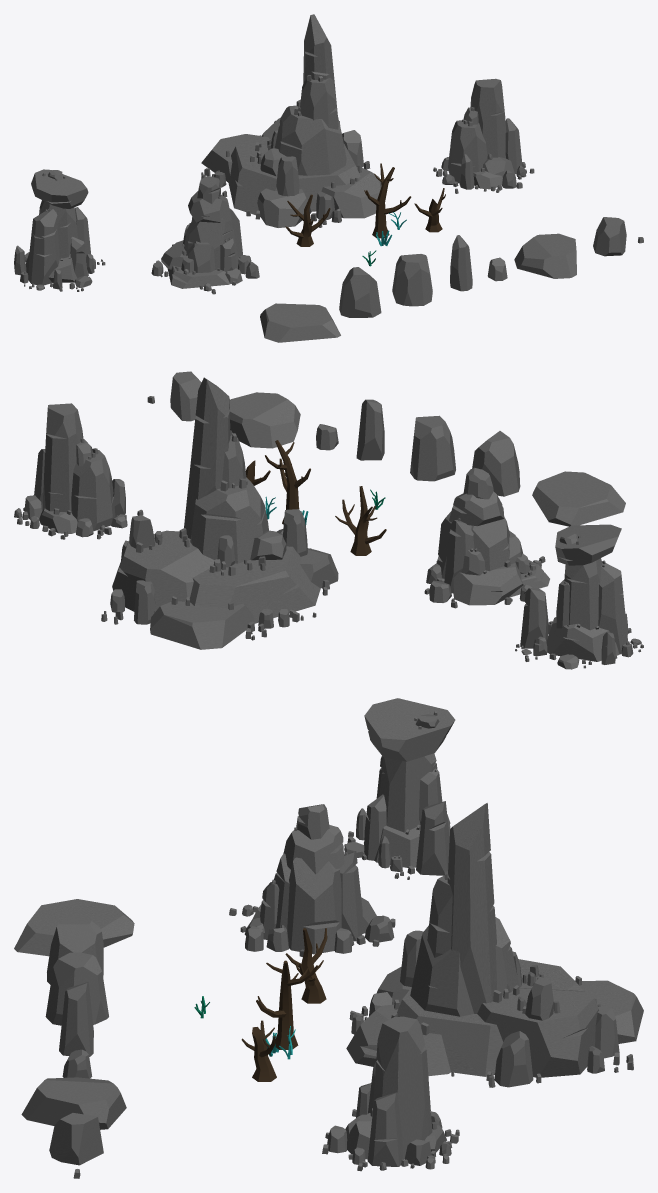
The model's file is rocks_enviroment.gltf.
The picture shows the model from 3 angles, top to bottom: view 1: azimuth 30°, elevation 25°; view 2: azimuth 150°, elevation 25°; view 3: azimuth 270°, elevation 25°; orthographic projection. The views are drawn at different scales.
Visible parts, largest first — view 1: big_rock_03_17, big_rock_02_16, big_rock_04_18, big_rock_01_15, small_rock_08_14, small_rock_02_8, small_rock_01_7, small_rock_05_11, small_rock_06_12, small_rock_04_10, tree_01_1, tree_02_2 (+1 smaller); view 2: big_rock_03_17, big_rock_02_16, big_rock_01_15, big_rock_04_18, small_rock_08_14, small_rock_02_8, small_rock_01_7, small_rock_05_11, small_rock_04_10, small_rock_06_12, tree_02_2, tree_01_1 (+1 smaller); view 3: big_rock_03_17, big_rock_02_16, big_rock_01_15, big_rock_04_18, small_rock_02_8, small_rock_08_14, small_rock_01_7, small_rock_06_12, small_rock_04_10, small_rock_05_11, tree_01_1, tree_02_2 (+2 smaller).
Part boxes in pixels (x1=…): big_rock_03_17: x1=201, y1=14, x2=381, y2=227; big_rock_02_16: x1=14, y1=169, x2=105, y2=291; big_rock_04_18: x1=433, y1=78, x2=534, y2=193; big_rock_01_15: x1=151, y1=176, x2=259, y2=294; small_rock_08_14: x1=260, y1=303, x2=340, y2=342; small_rock_02_8: x1=514, y1=233, x2=576, y2=278; small_rock_01_7: x1=392, y1=254, x2=432, y2=306; small_rock_05_11: x1=339, y1=267, x2=381, y2=317; small_rock_06_12: x1=593, y1=217, x2=626, y2=256; small_rock_04_10: x1=450, y1=235, x2=472, y2=291; tree_01_1: x1=364, y1=163, x2=411, y2=238; tree_02_2: x1=285, y1=194, x2=330, y2=246; big_rock_03_17: x1=101, y1=377, x2=338, y2=649; big_rock_02_16: x1=515, y1=524, x2=643, y2=669; big_rock_01_15: x1=424, y1=467, x2=549, y2=608; big_rock_04_18: x1=14, y1=403, x2=143, y2=539; small_rock_08_14: x1=532, y1=471, x2=625, y2=526; small_rock_02_8: x1=229, y1=392, x2=300, y2=448; small_rock_01_7: x1=410, y1=415, x2=455, y2=481; small_rock_05_11: x1=472, y1=431, x2=520, y2=496; small_rock_04_10: x1=356, y1=399, x2=384, y2=460; small_rock_06_12: x1=170, y1=371, x2=201, y2=421; tree_02_2: x1=335, y1=486, x2=386, y2=555; tree_01_1: x1=265, y1=440, x2=310, y2=524; big_rock_03_17: x1=346, y1=803, x2=643, y2=1087; big_rock_02_16: x1=344, y1=698, x2=455, y2=879; big_rock_01_15: x1=229, y1=804, x2=395, y2=956; big_rock_04_18: x1=322, y1=1016, x2=459, y2=1171; small_rock_02_8: x1=21, y1=1077, x2=126, y2=1129; small_rock_08_14: x1=14, y1=899, x2=134, y2=956; small_rock_01_7: x1=45, y1=952, x2=108, y2=1025; small_rock_06_12: x1=49, y1=1113, x2=103, y2=1165; small_rock_04_10: x1=59, y1=982, x2=93, y2=1056; small_rock_05_11: x1=47, y1=916, x2=103, y2=984; tree_01_1: x1=256, y1=960, x2=317, y2=1049; tree_02_2: x1=285, y1=928, x2=327, y2=1003.
Size of what is drawn, in the model's own units: 26.72 by 8.84 by 19.83.
6 materials, 4 textured.
